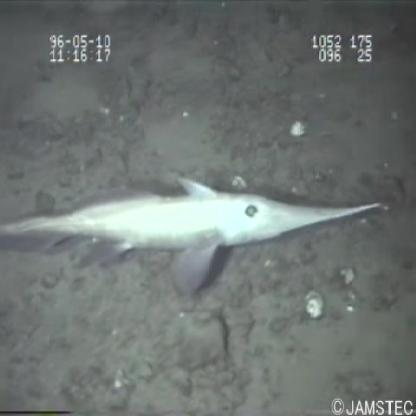Bio: (1, 171, 386, 298)
